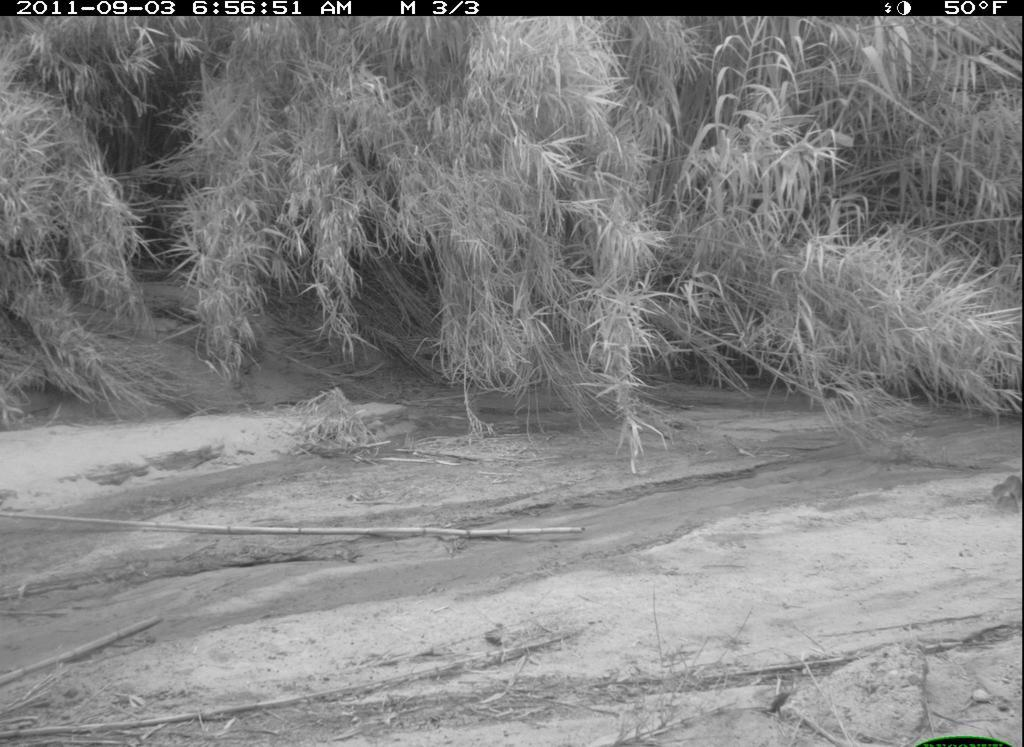squirrel: (984, 465, 1023, 514)
